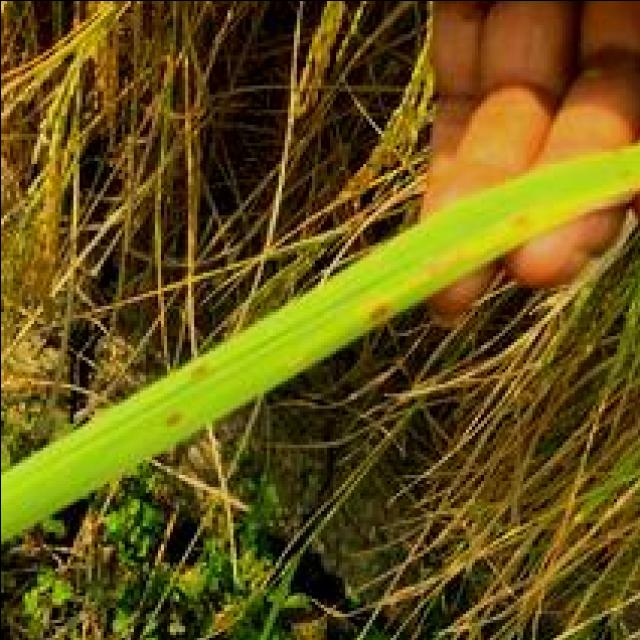Brown_Spot: (495, 200, 531, 230), (184, 353, 208, 378), (151, 404, 181, 422), (360, 302, 390, 317)
